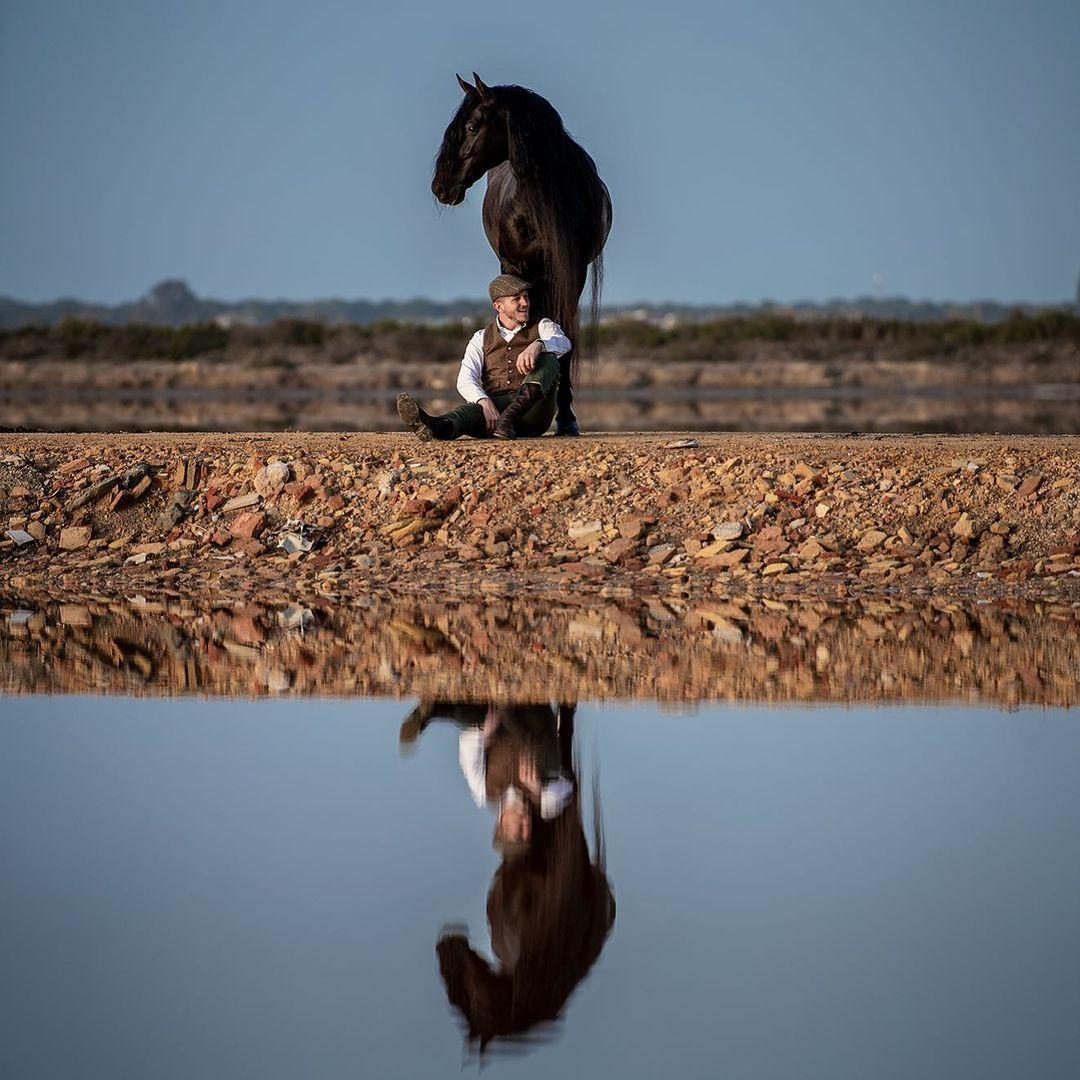horse: (397, 696, 616, 1068), (429, 69, 613, 436)
